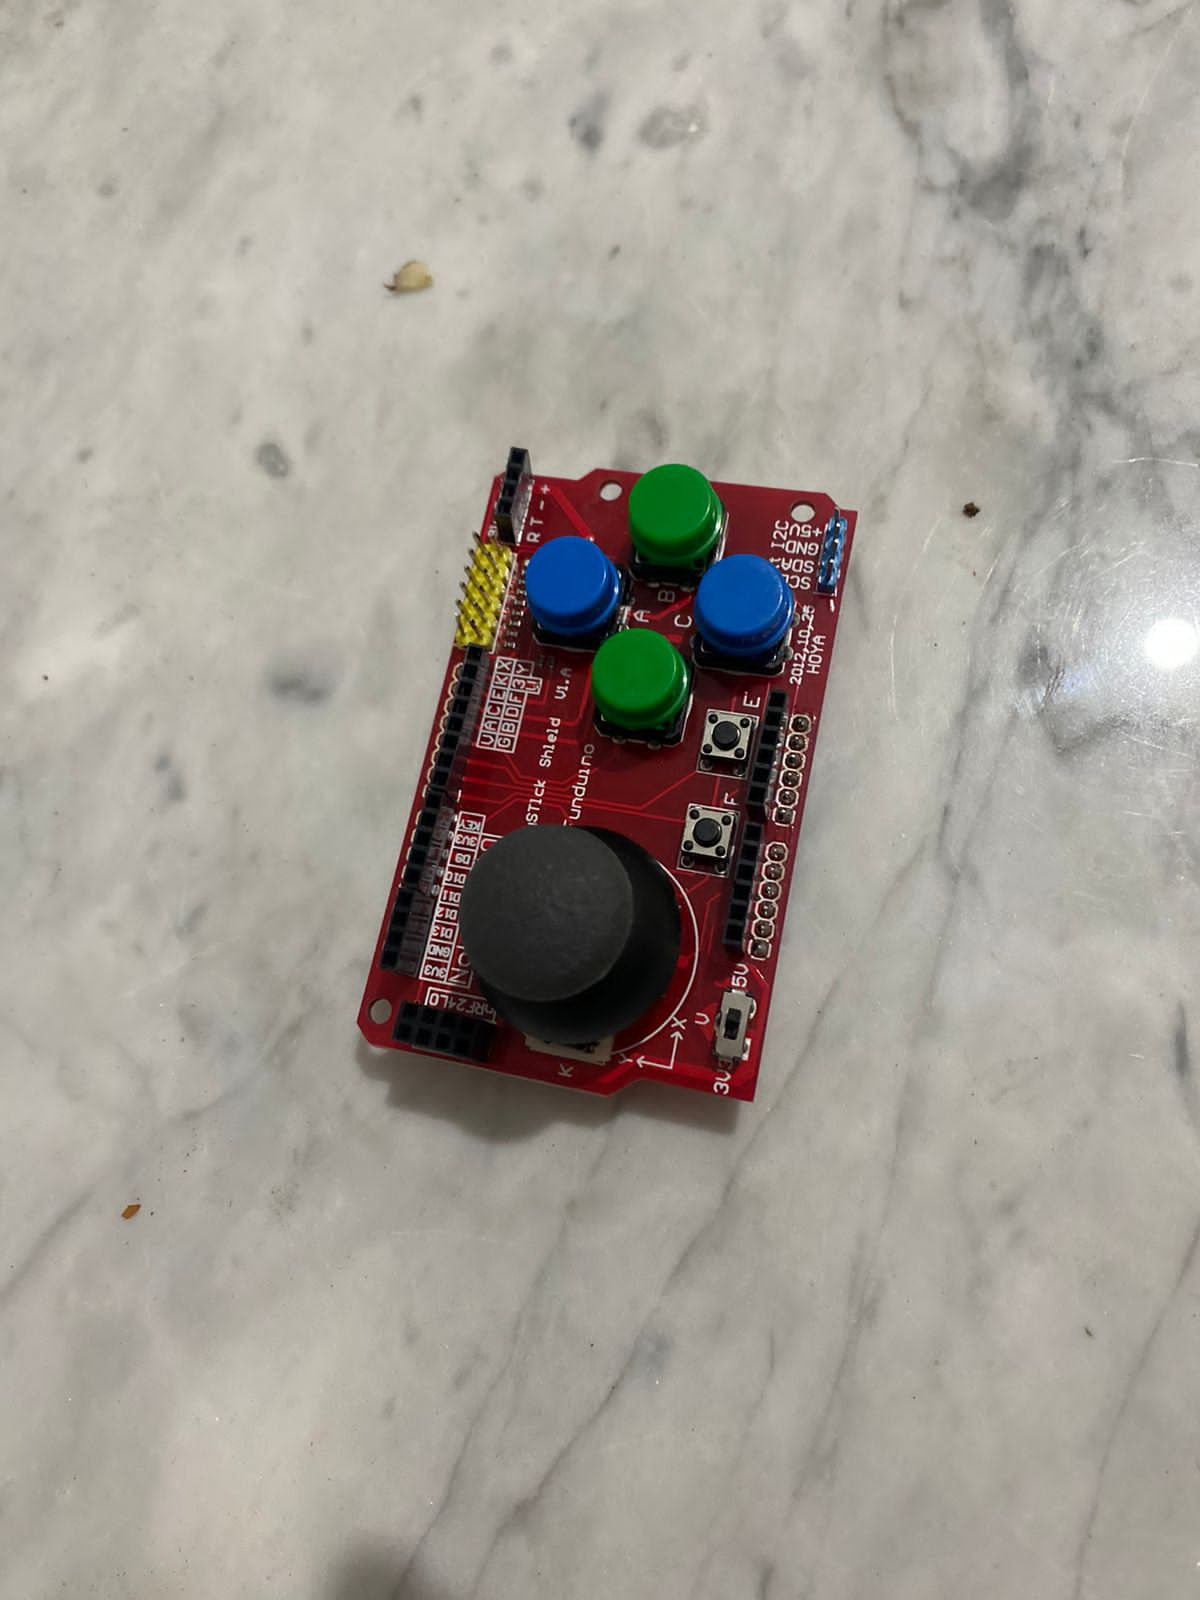Clavier-Joystick: (347, 437, 866, 1105)
